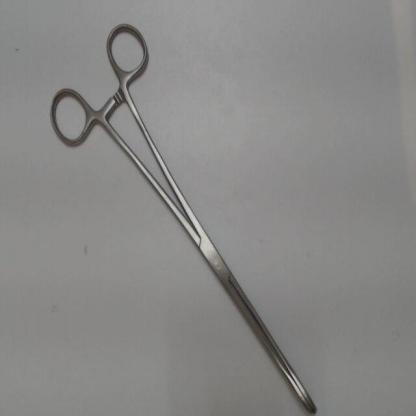Sponge Forceps: (41, 16, 323, 415)
